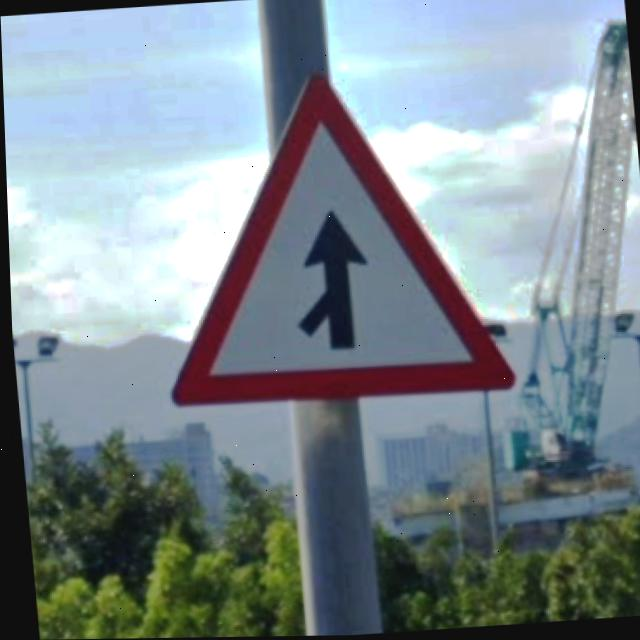leftmerge: (169, 76, 511, 410)
